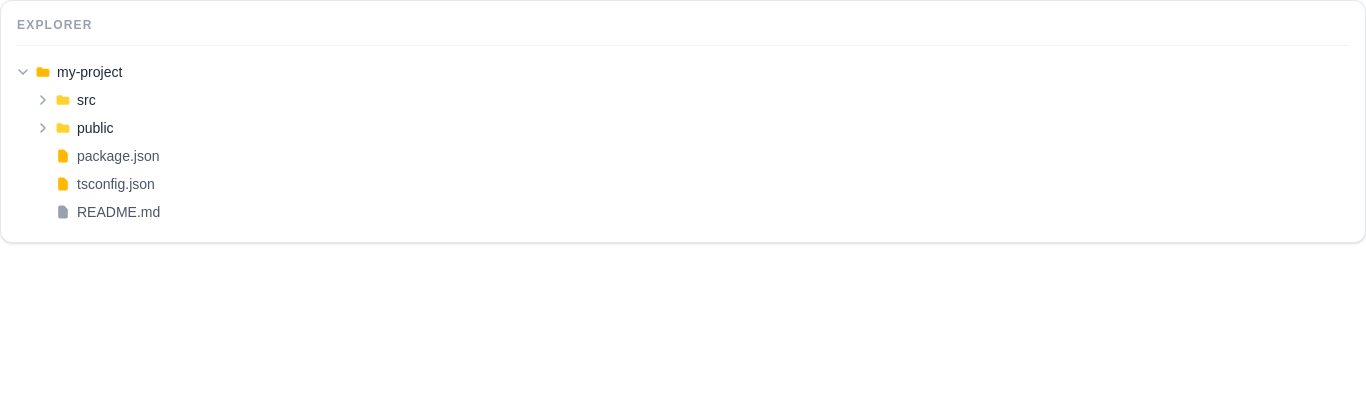
Scenario: FileTree — toggle open / close › opens a folder and shows its children when clicked
Click the button "src" at (43, 100), box [17, 86, 1349, 114]
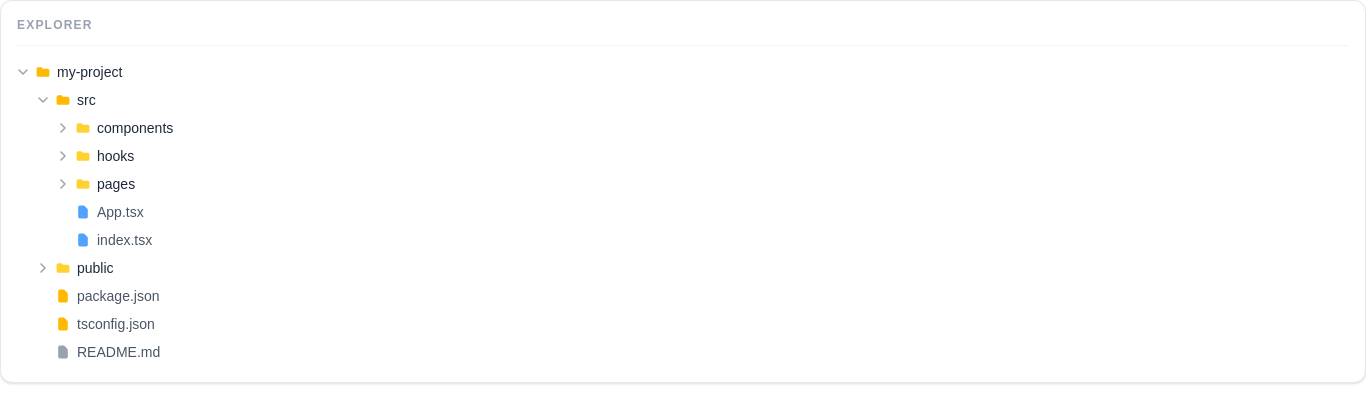
Now the text "components" is shown, box [97, 118, 173, 138]
Now the text "hooks" is shown, box [97, 146, 134, 166]
